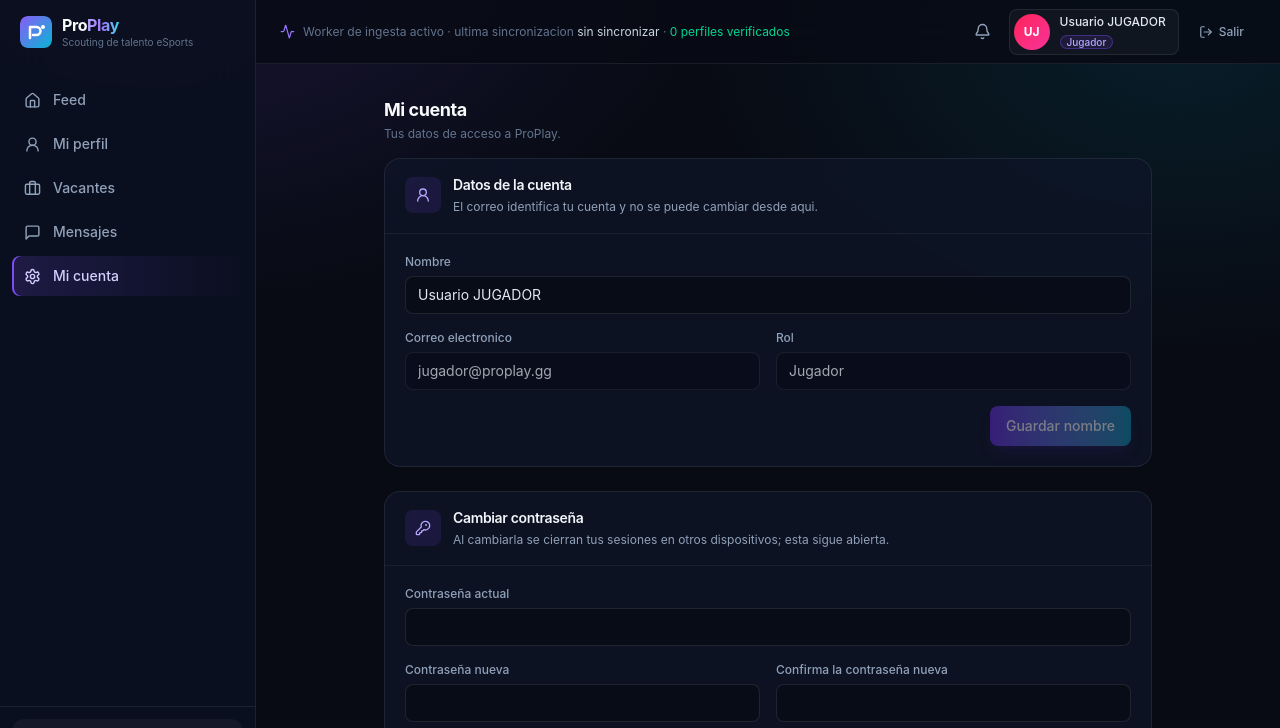
Test: Vista de cuenta › ofrece reintentar ante un error que no es de validacion
The width and height of the screenshot is (1280, 728).
Expected: the heading "Datos de la cuenta" is shown, [453,176,572,193]
Replace the text in the field labelled "Nombre" with "Nombre Nuevo". click: (768, 294)
box: [405,276,1131,314]
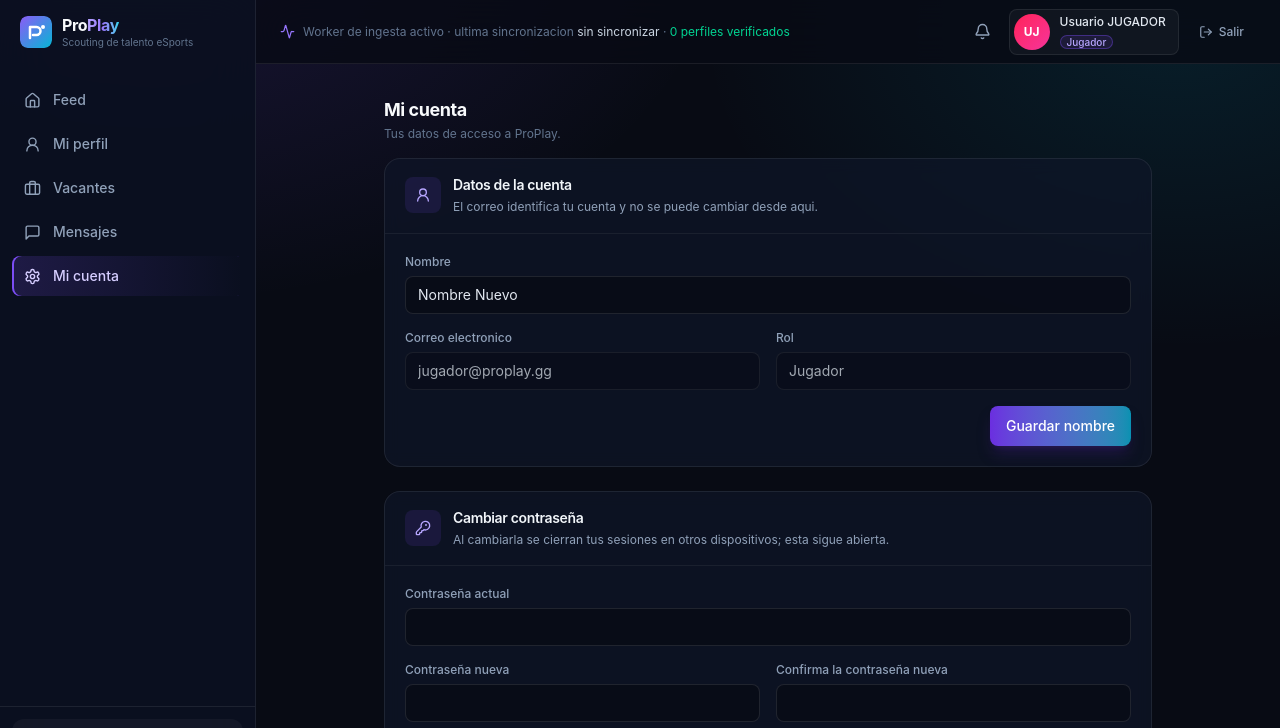
Click the button "Guardar nombre". click: (1060, 426)
box: [990,406,1131,446]
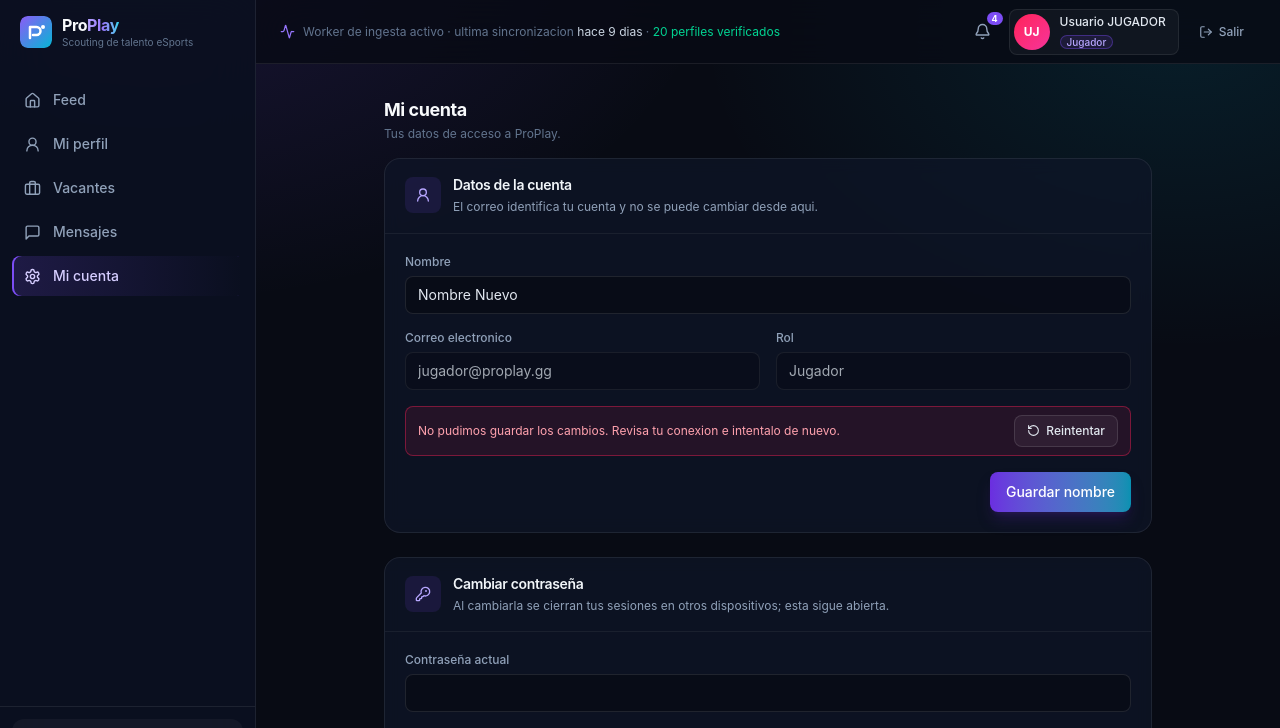
Click the button "Reintentar". click: (1066, 430)
box: [1014,414,1118,446]
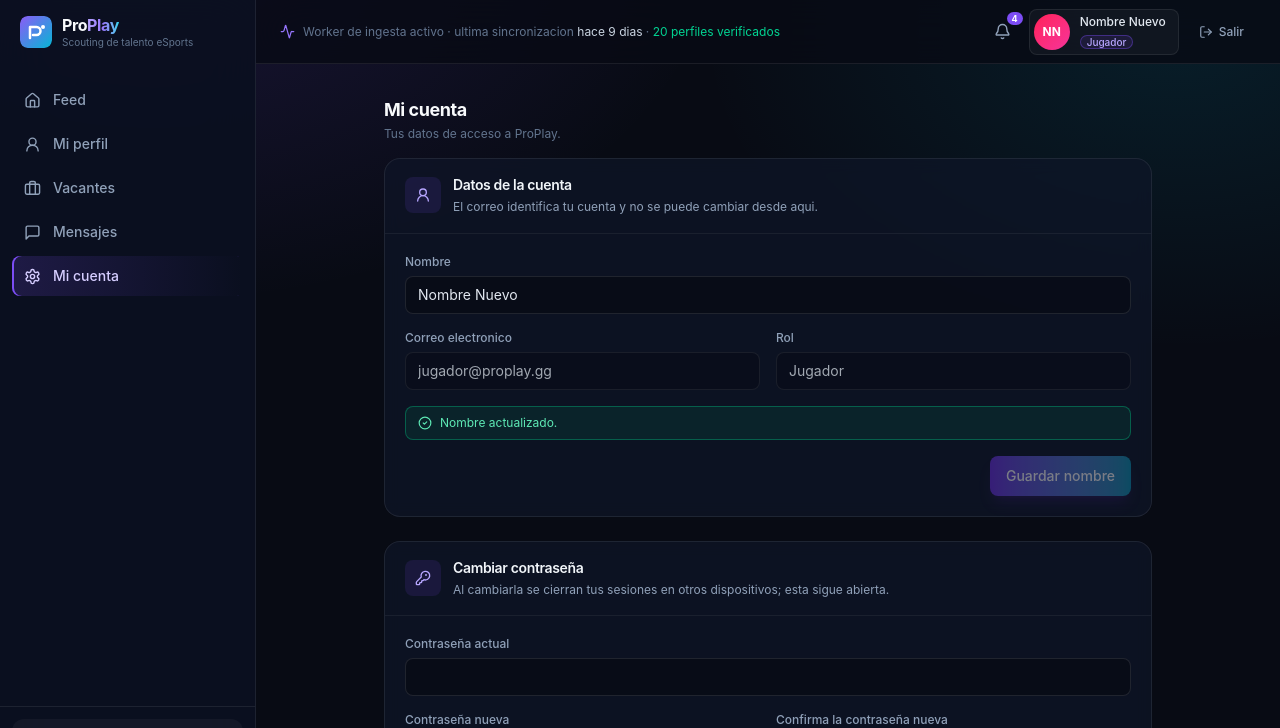
Result: the message shows "Nombre actualizado" at [440,414,557,430]
